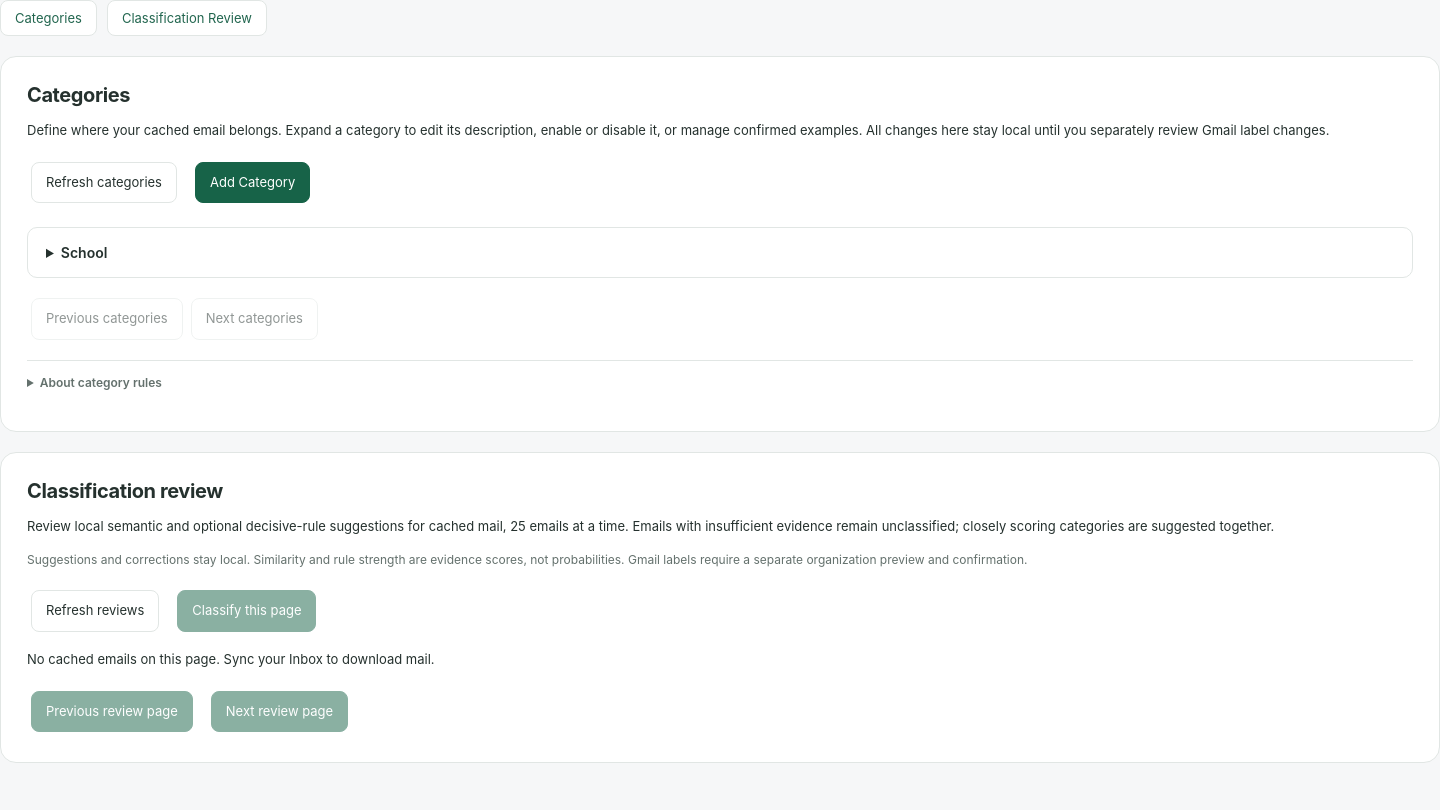
Test: combines collapsed categories with independent classification review underneath
Expected: the button "Edit School" is not shown
Expected: the button "Add Category" is shown, [195,162,310,203]
What coordinates should you click on to do the following:
click the heading "School"
I would click on:
 (84, 253)
Its box is [61,244,107,261].
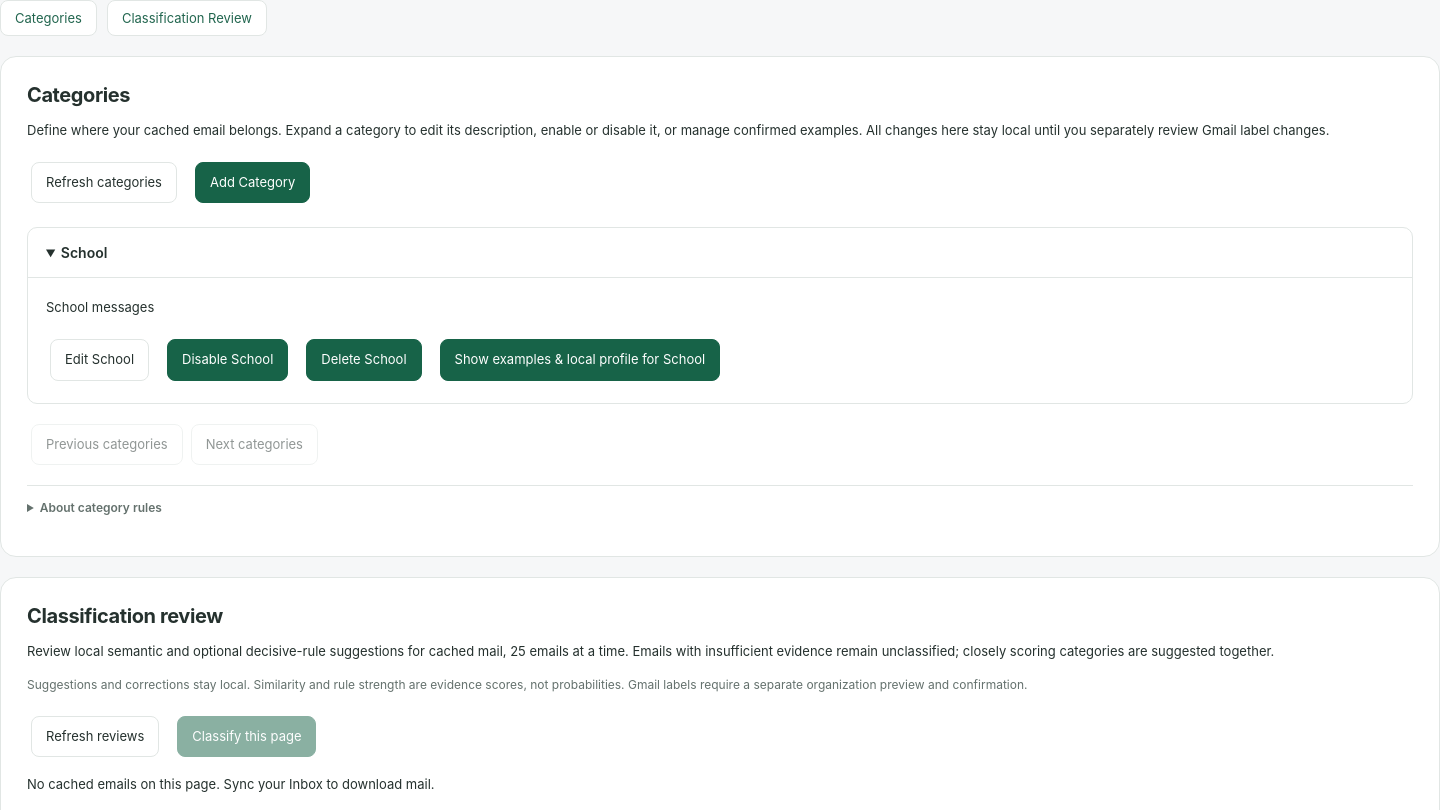
Now the button "Disable School" is shown, box [167,339,288,380]
